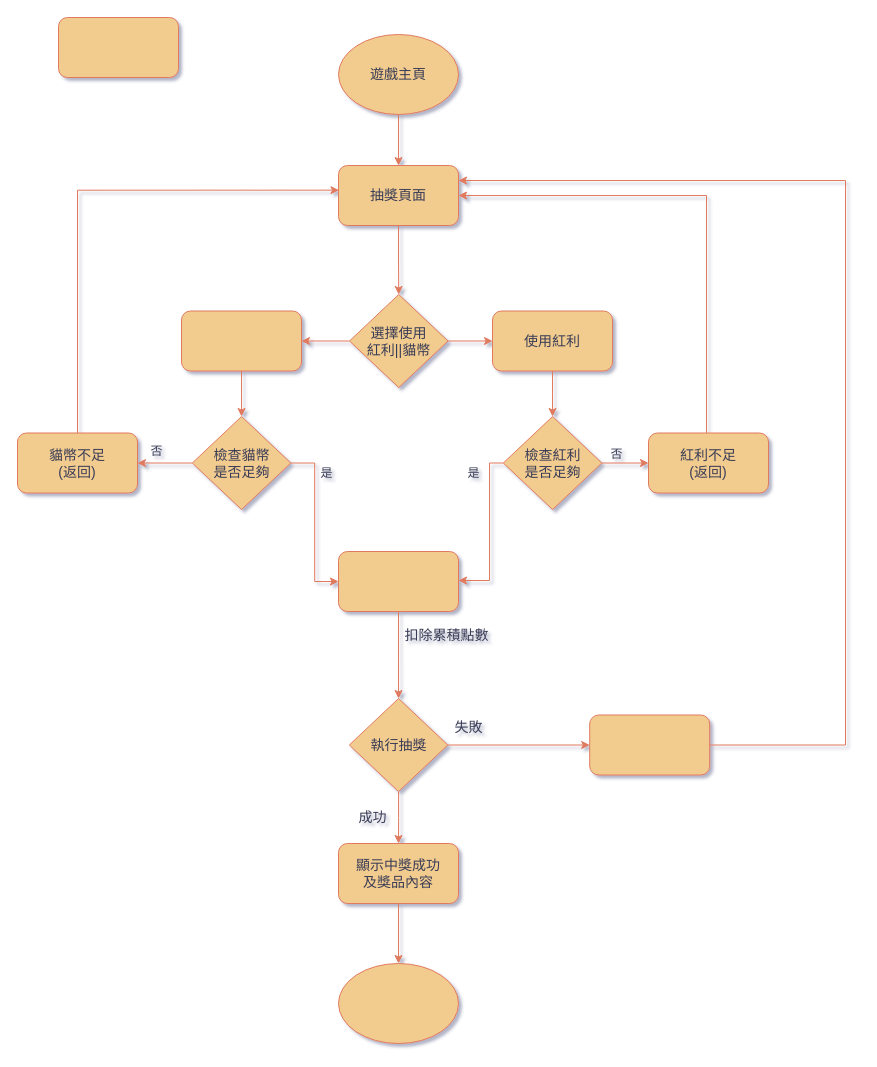
Some shapes in this 877 by 1067 pixel diagram are drawn without their labels. The centre of each missing label's shape, as x and y in pixels:
使用貓幣: the point at 241,340
抽獎系統功能: the point at 118,47
歸還點數 請重新操作一次: the point at 649,744
結束 (返回抽獎頁面): the point at 398,1003
開始抽獎: the point at 398,581
